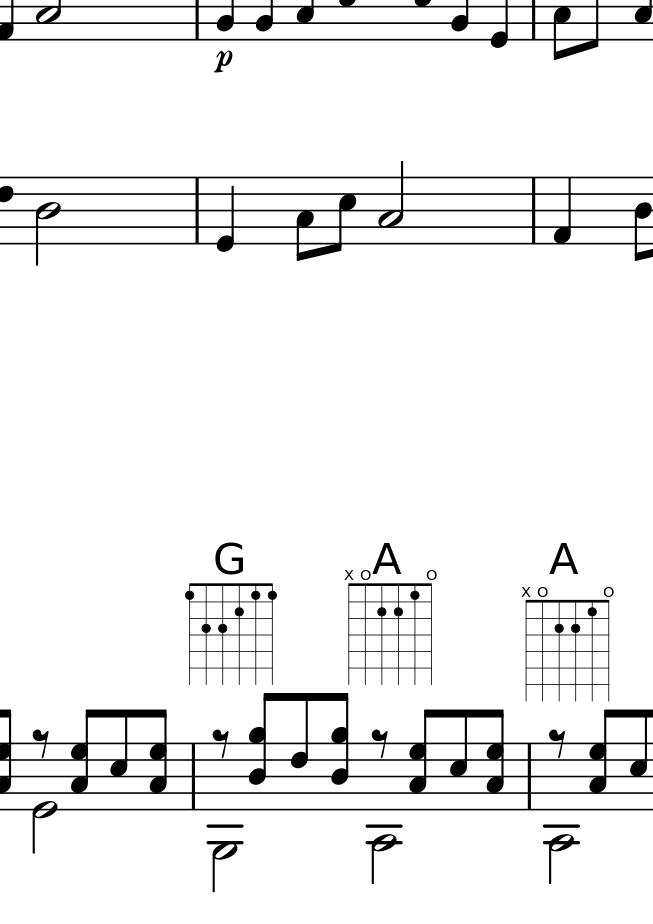2_-4: (545, 739, 577, 884), (368, 740, 398, 889)
2_-5: (210, 743, 239, 895)
2_0: (31, 741, 58, 856)
2_3: (378, 152, 406, 247)
2_4: (35, 175, 61, 266)
4_0: (216, 174, 238, 255)
4_1: (551, 175, 575, 247)
8_3: (295, 176, 315, 264)
8_3_7: (70, 708, 97, 813), (408, 707, 435, 812), (588, 708, 615, 812), (148, 708, 168, 812), (484, 706, 504, 810)
8_4_9: (249, 692, 276, 812), (331, 691, 350, 811)
8_5: (628, 708, 650, 815), (449, 706, 470, 812), (109, 708, 130, 813), (332, 175, 357, 255), (632, 174, 653, 266)
8_6: (287, 690, 311, 813)
Fretboard: (519, 582, 619, 704), (343, 567, 441, 686), (184, 579, 280, 688)
Rests8: (209, 727, 233, 760), (370, 727, 392, 761), (546, 726, 567, 758), (33, 725, 53, 757)
Single_barline: (187, 741, 204, 811), (526, 177, 543, 243), (190, 176, 206, 245), (523, 742, 539, 810)
p: (211, 47, 236, 78)
